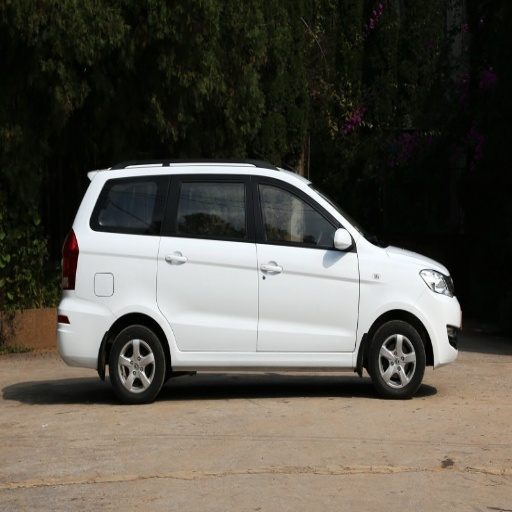back_bumper: (59, 304, 102, 359)
back_right_door: (131, 174, 255, 351)
front_right_door: (254, 174, 359, 352)
